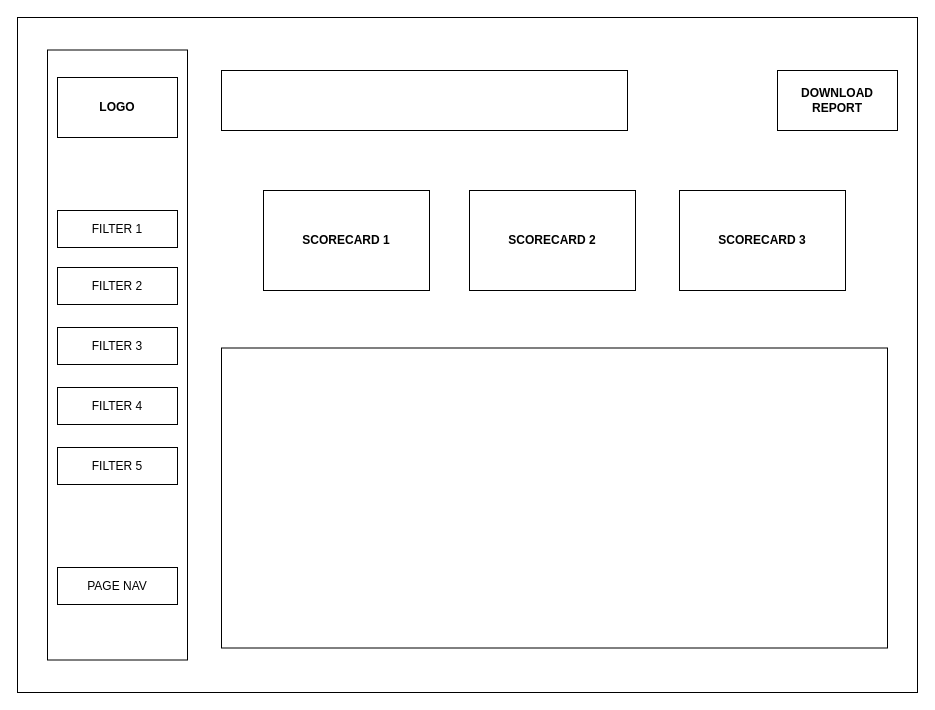
This 935x710 diagram has some shape labels left out. Here are the shapes that lost their labels. From the top down, the centre of each, then its label:
At (424,100): "DASHBOARD TITLE AND DESCRIPTIONS".
At (554,497): "CHART HUBUNGAN ANTARA VALUES SALES, NET PROFIT DAN AOV".
